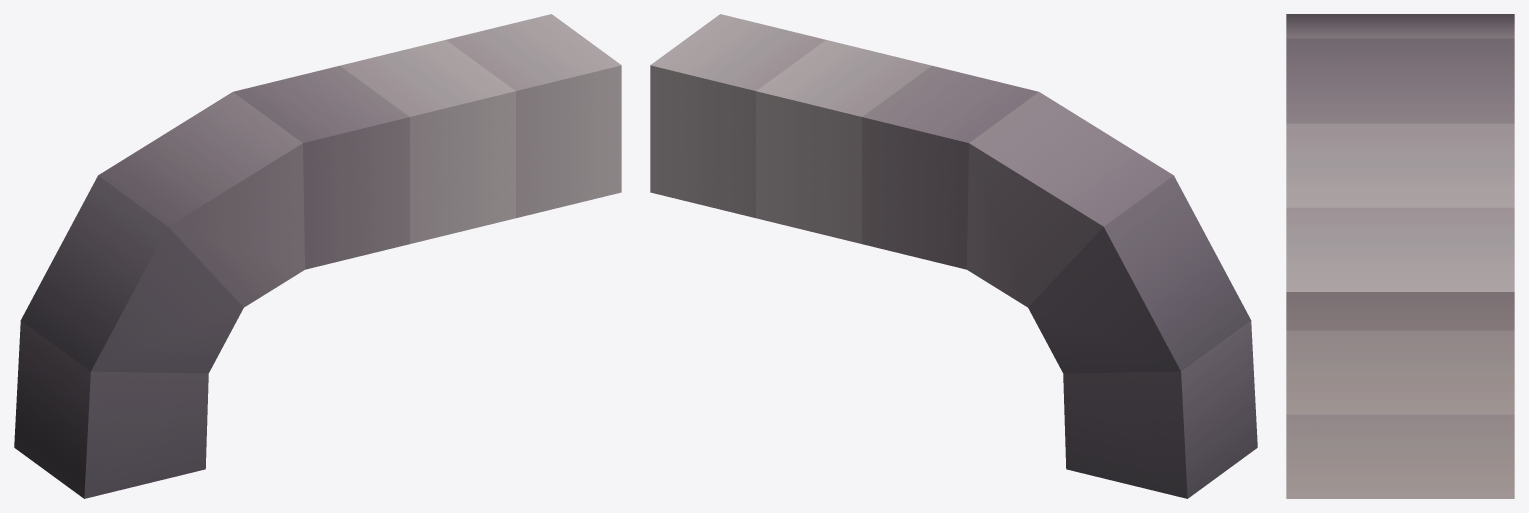
Rendered from Metal_Curve.FBX.
The picture shows the model from 3 angles, left to right: view 1: azimuth 30°, elevation 25°; view 2: azimuth 150°, elevation 25°; view 3: azimuth 270°, elevation 25°; orthographic projection. The views are drawn at different scales.
Parts seen in each view (by area): view 1: Metal_Curve; view 2: Metal_Curve; view 3: Metal_Curve.
Boxes of the visible parts, bbox=[...] form: Metal_Curve: bbox=[14, 14, 621, 498]; Metal_Curve: bbox=[650, 14, 1257, 498]; Metal_Curve: bbox=[1286, 14, 1514, 498].
Size of the model in its own units: 0.4228 by 0.2274 by 0.0956.
Materials: 1 (1 with a texture image).
